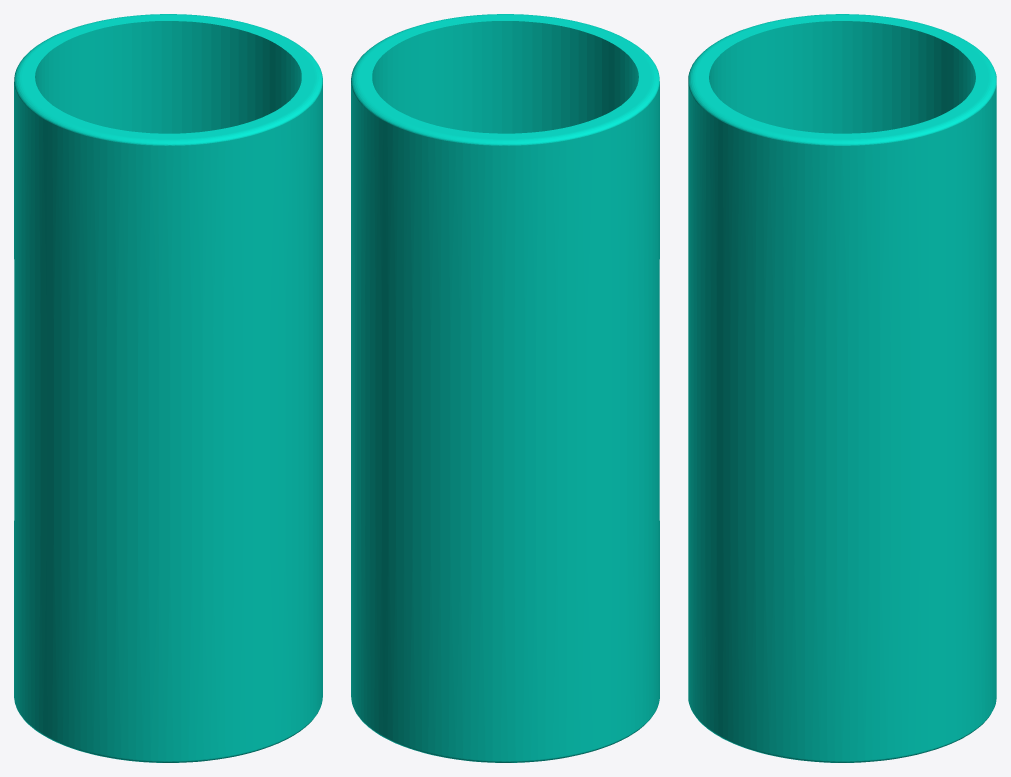
File: habillage_produit_04.glb
3 views of the same model, side by side, from view 1: azimuth 30°, elevation 25°; view 2: azimuth 150°, elevation 25°; view 3: azimuth 270°, elevation 25° (orthographic).
Visible parts, largest first — view 1: bouteille prototype V3 habillage; view 2: bouteille prototype V3 habillage; view 3: bouteille prototype V3 habillage.
Part boxes in pixels (box(x1,y1,x2,y2)): bouteille prototype V3 habillage: box(14, 14, 322, 762); bouteille prototype V3 habillage: box(351, 14, 659, 762); bouteille prototype V3 habillage: box(688, 14, 996, 762).
Bounding box in the file's own units: 80.5 × 179 × 80.5.
